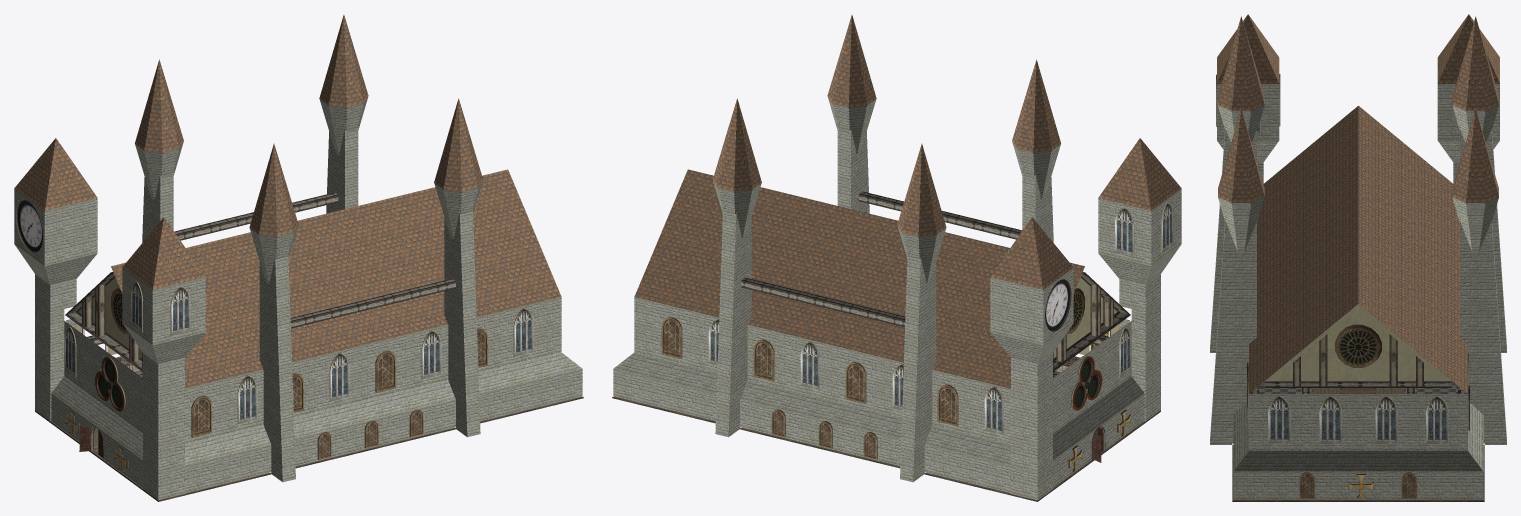
File: cathedral_with_both_interior_and_exterio.glb
The picture shows the model from 3 angles, left to right: view 1: azimuth 30°, elevation 25°; view 2: azimuth 150°, elevation 25°; view 3: azimuth 270°, elevation 25°; orthographic projection. The views are drawn at different scales.
Visible parts, largest first — view 1: Church_8_StaticMeshComponent0_0; view 2: Church_8_StaticMeshComponent0_0; view 3: Church_8_StaticMeshComponent0_0.
Boxes of the visible parts, x1,y1,x2,y2 form: Church_8_StaticMeshComponent0_0: [14, 15, 583, 501]; Church_8_StaticMeshComponent0_0: [612, 15, 1181, 501]; Church_8_StaticMeshComponent0_0: [1210, 14, 1506, 501].
Bounding box in the file's own units: 85.12 × 60.32 × 48.64.
Materials: 39 (39 with a texture image).
